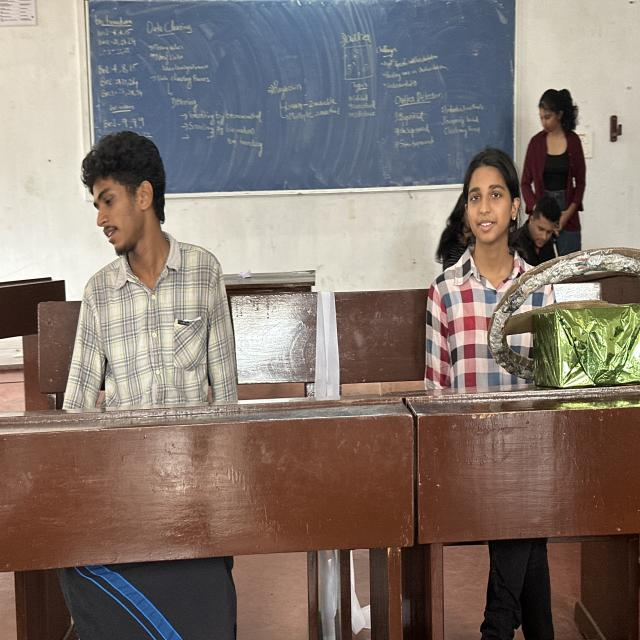Helmet: (53, 229, 278, 458), (416, 225, 587, 417)
